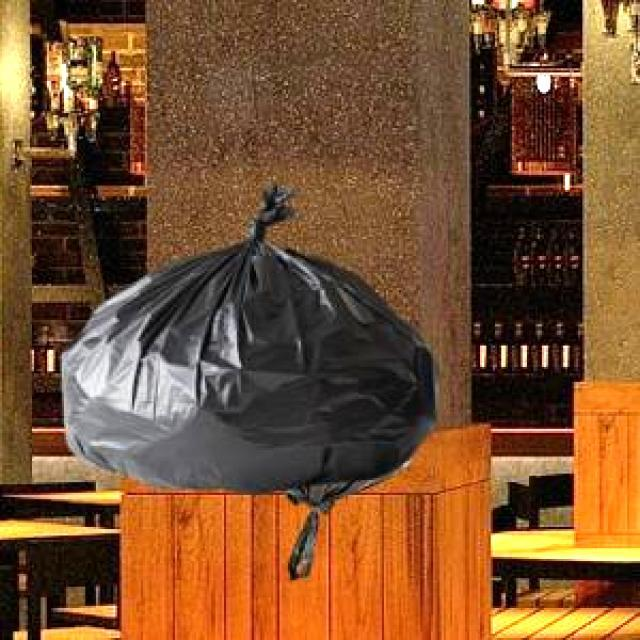Garbage_Bag: (59, 178, 436, 490), (280, 456, 406, 578)
